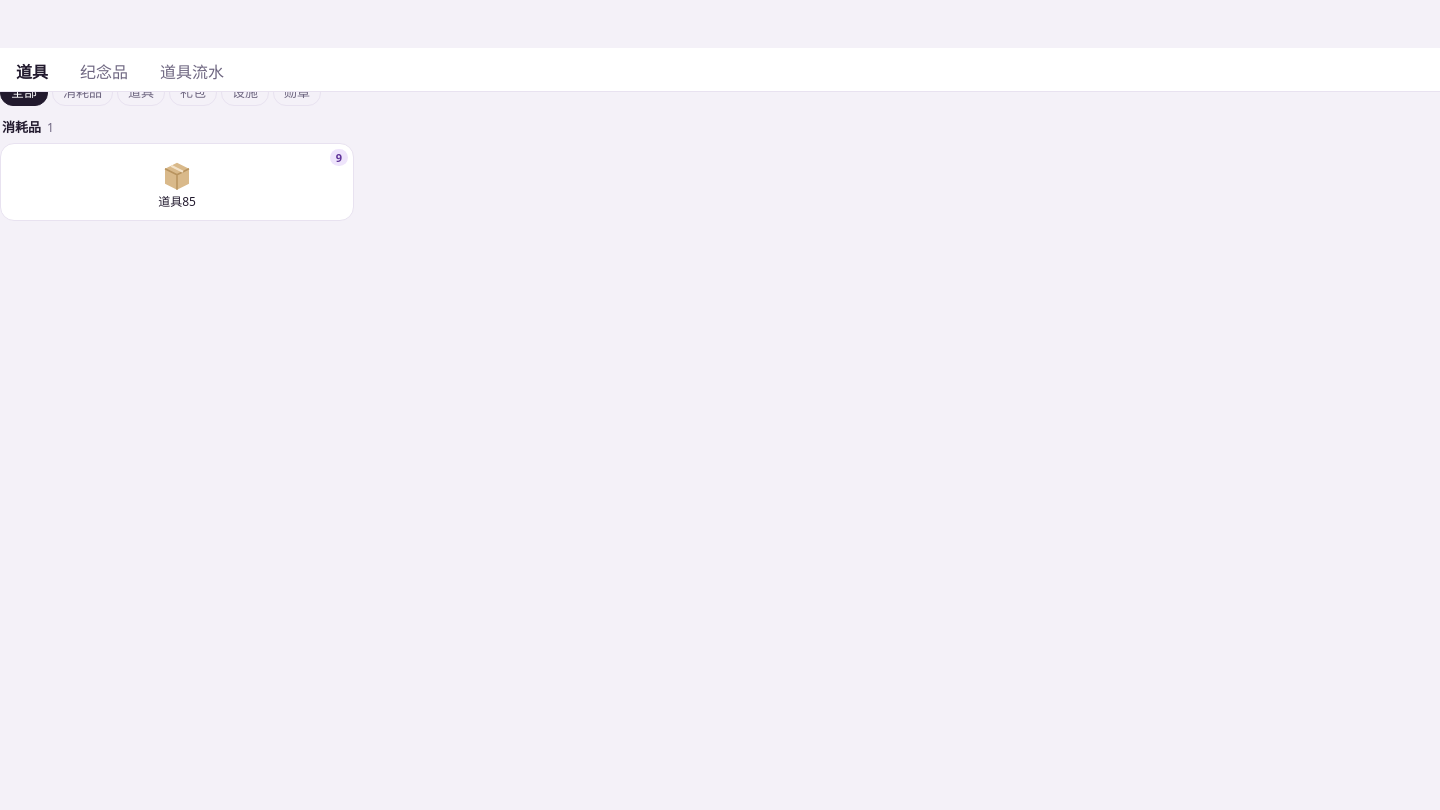
it: StoreView › 信息行只在有多段时才用分隔点（终审：开头多一个点）
What coordinates should you click on to do the following:
click the button with test id "store-item-85"
I would click on:
 (177, 182)
Its box is [0,143,354,221].
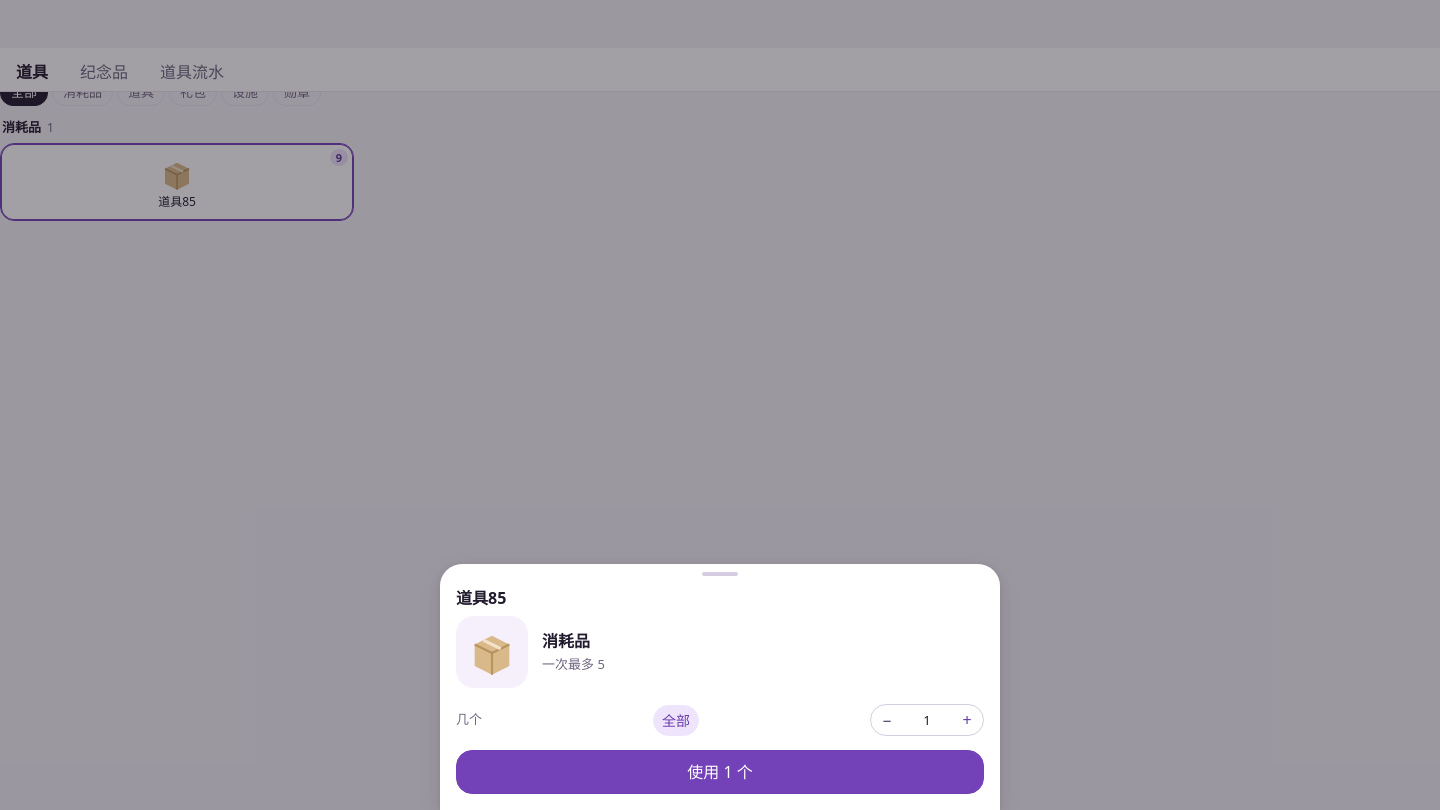
Result: the element with class "dt-detail-sub" reads "一次最多 5" at [542,655,605,673]
